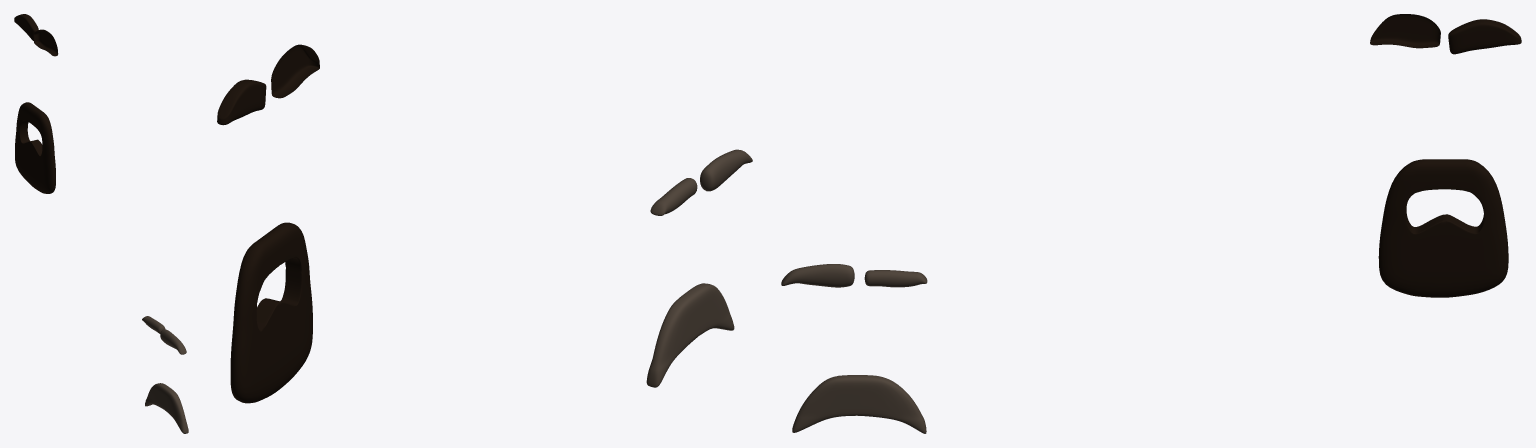
File: Captain Larry Romanov and Commander Boblov Costumes.fbx
3 renders of one model, left to right at view 1: azimuth 30°, elevation 25°; view 2: azimuth 150°, elevation 25°; view 3: azimuth 270°, elevation 25°, orthographic. The views are drawn at different scales.
Visible parts, largest first — view 1: Plane.001, Plane.006, Plane.003, Plane.002, Plane.005, Plane.004; view 2: Plane.001, Plane.006, Plane.003, Plane.002, Plane.005, Plane.004; view 3: Plane.001, Plane.006, Plane.003, Plane.002, Plane.005, Plane.004.
Part boxes in pixels (<box>): Plane.001: <box>15,102,55,193</box>; Plane.006: <box>145,383,188,433</box>; Plane.003: <box>33,29,58,56</box>; Plane.002: <box>14,14,38,40</box>; Plane.005: <box>160,329,186,354</box>; Plane.004: <box>142,316,165,333</box>; Plane.001: <box>230,222,312,403</box>; Plane.006: <box>646,283,734,387</box>; Plane.003: <box>271,44,319,98</box>; Plane.002: <box>217,79,266,125</box>; Plane.005: <box>700,149,752,191</box>; Plane.004: <box>650,178,697,215</box>; Plane.001: <box>1378,159,1508,297</box>; Plane.006: <box>792,375,926,433</box>; Plane.003: <box>1370,14,1440,48</box>; Plane.002: <box>1448,19,1521,54</box>; Plane.005: <box>781,264,854,287</box>; Plane.004: <box>864,270,927,287</box>.
Size of the model in its own units: 149 by 683 by 1020.
